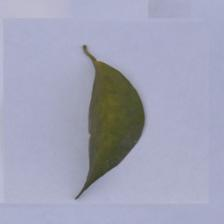greening: (74, 41, 128, 121)
